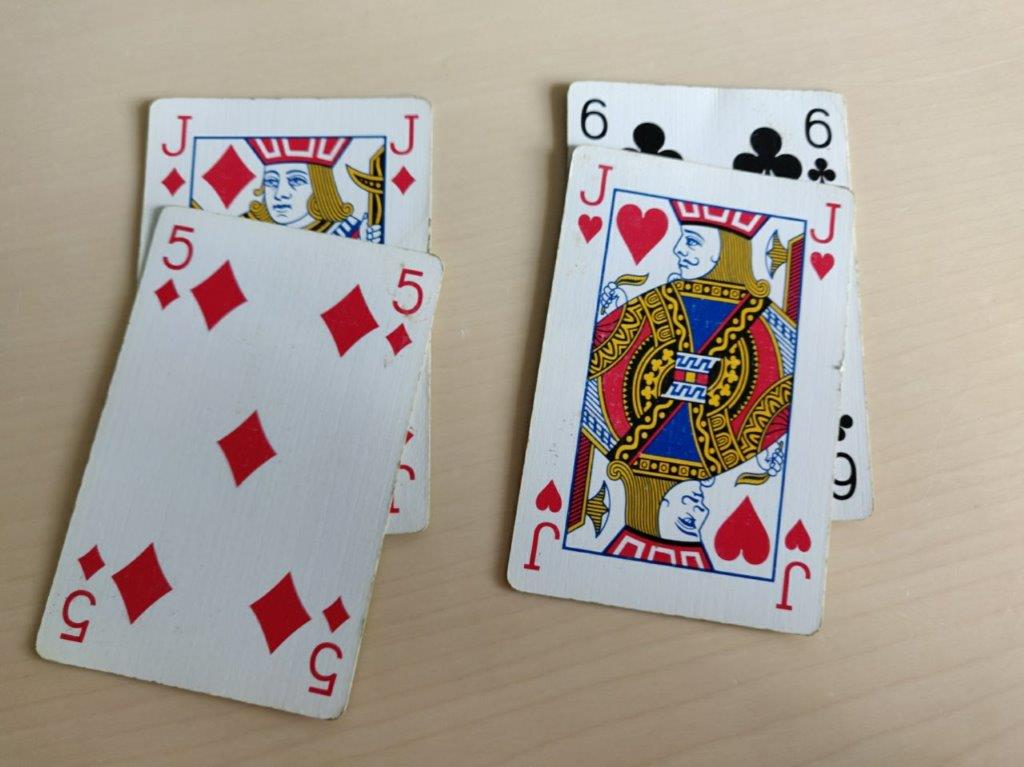5D: (377, 261, 429, 357), (147, 217, 195, 317)
6C: (800, 103, 843, 191)
JD: (382, 106, 424, 198), (153, 110, 194, 199)
JH: (569, 156, 617, 250), (803, 198, 844, 284)
